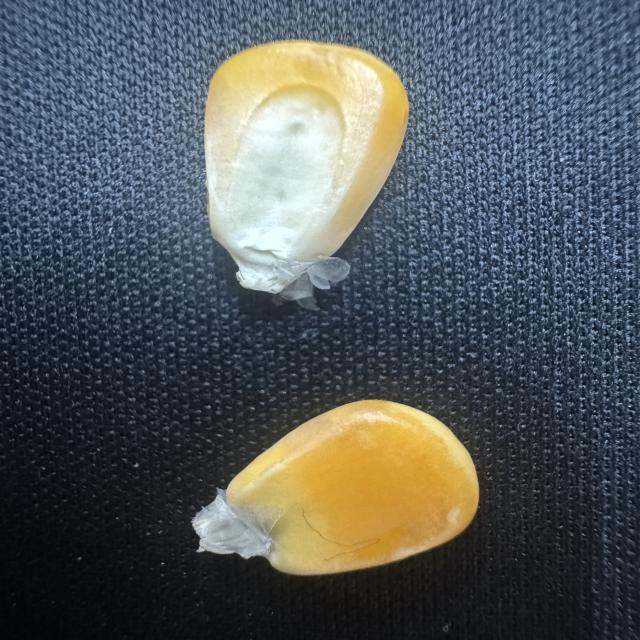Good-Seed: (189, 37, 412, 309), (189, 389, 490, 583)
